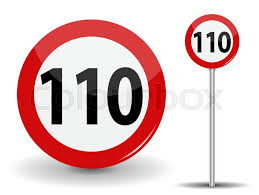Speed_limit_110km: (17, 20, 166, 169), (185, 14, 239, 69)
